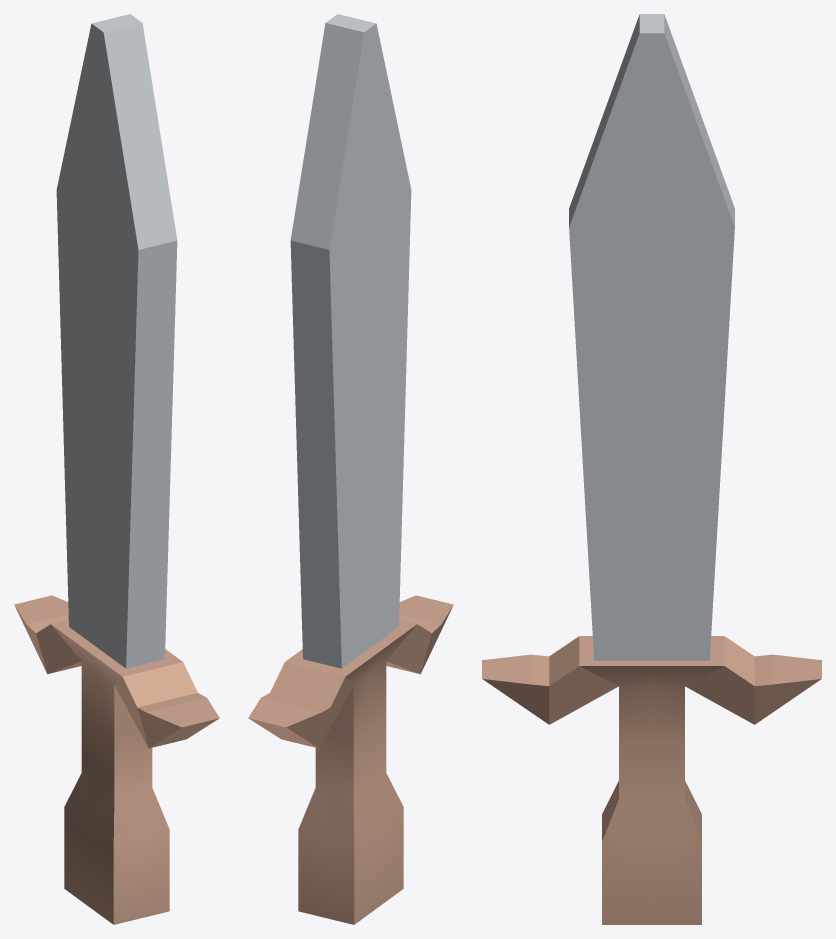
Rendered from iron-sword.fbx.
3 renders of one model, left to right at view 1: azimuth 30°, elevation 25°; view 2: azimuth 150°, elevation 25°; view 3: azimuth 270°, elevation 25°, orthographic.
Parts seen in each view (by area): view 1: sword; view 2: sword; view 3: sword.
Part boxes in pixels (x1,y1,x2,y2): sword: (14,14,219,924); sword: (248,14,453,924); sword: (482,14,821,924).
Size of the model in its own units: 18.67 by 258 by 89.67.
